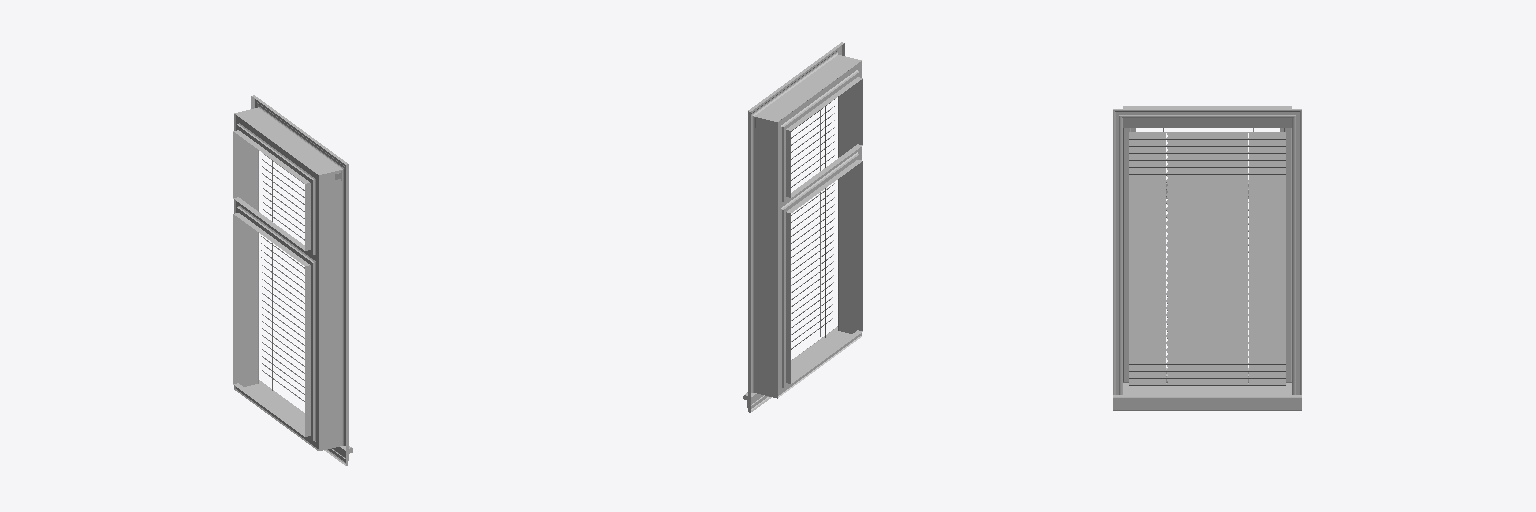
Rendered from Window2.obj.
3 renders of one model, left to right at view 1: azimuth 30°, elevation 25°; view 2: azimuth 150°, elevation 25°; view 3: azimuth 270°, elevation 25°, orthographic.
Parts seen in each view (by area): view 1: Body_Court, obj_08; view 2: Body_Court, obj_08; view 3: obj_08, Body_Court, obj_06.
Part boxes in pixels (bbox=[...]): Body_Court: bbox=[233, 95, 352, 465]; obj_08: bbox=[261, 154, 304, 401]; Body_Court: bbox=[743, 42, 862, 412]; obj_08: bbox=[791, 99, 834, 349]; obj_08: bbox=[1129, 132, 1285, 385]; Body_Court: bbox=[1113, 106, 1301, 410]; obj_06: bbox=[1123, 118, 1291, 127].
Size of the model in its own units: 1.26 by 7.85 by 7.87.